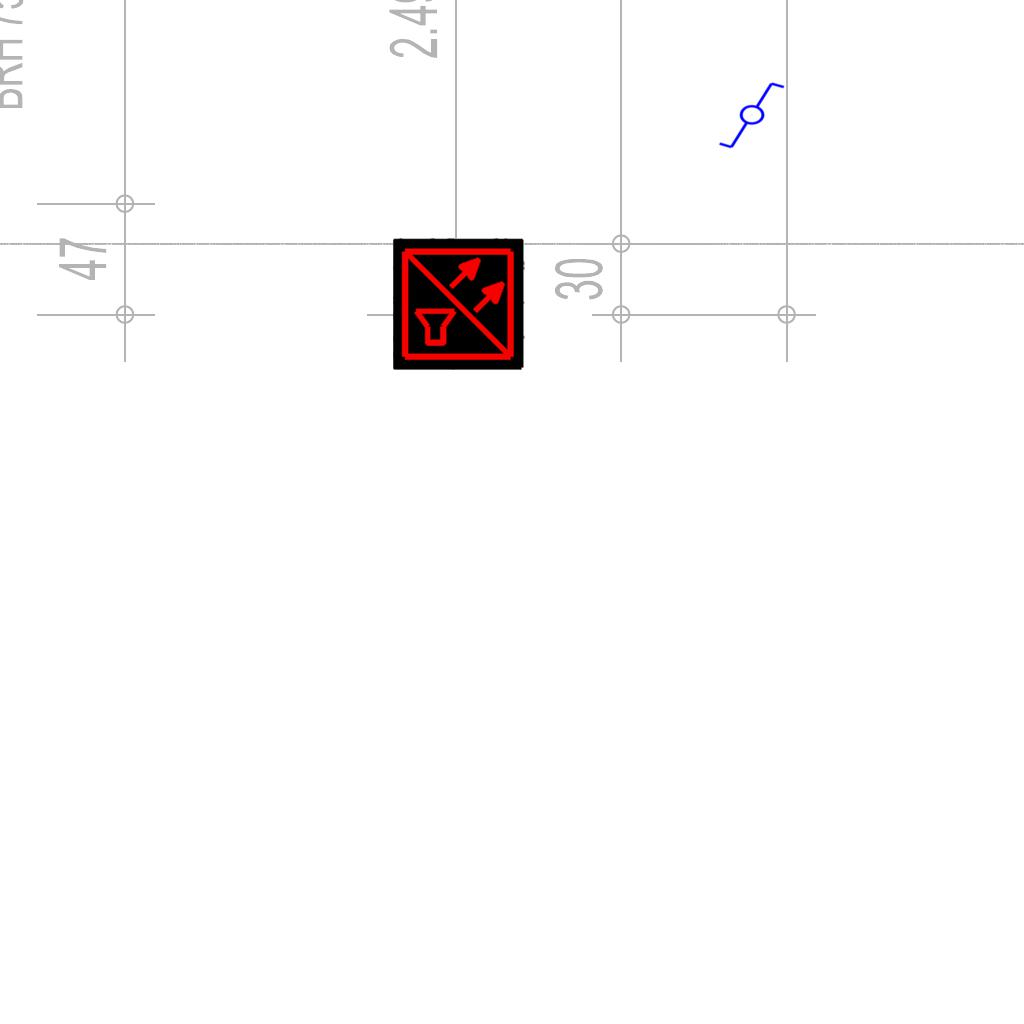OKW_Multisensormelder_(Kombination_optischer_Rauch-Kahlenmonoxid_Waerme-Melder): (393, 238, 525, 370)
Wechselschalter: (717, 80, 795, 152)
